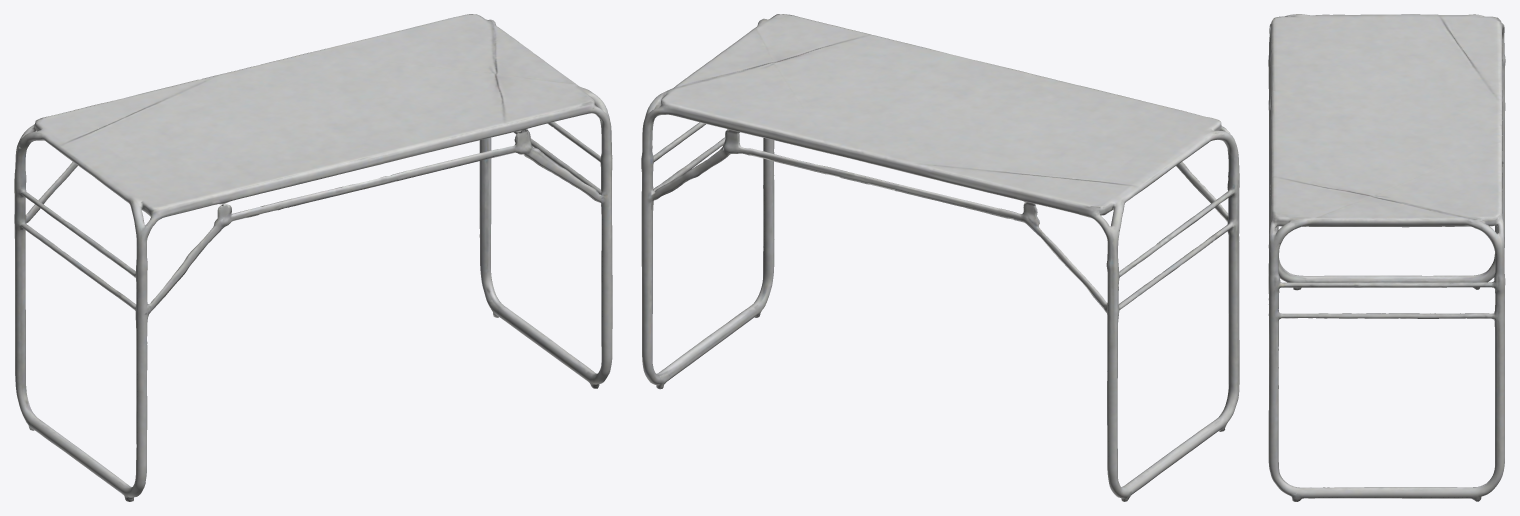
3 renders of one model, left to right at view 1: azimuth 30°, elevation 25°; view 2: azimuth 150°, elevation 25°; view 3: azimuth 270°, elevation 25°, orthographic. The views are drawn at different scales.
Size of the model in its own units: 2 by 1.2 by 0.9268.
1 material, 1 textured.
